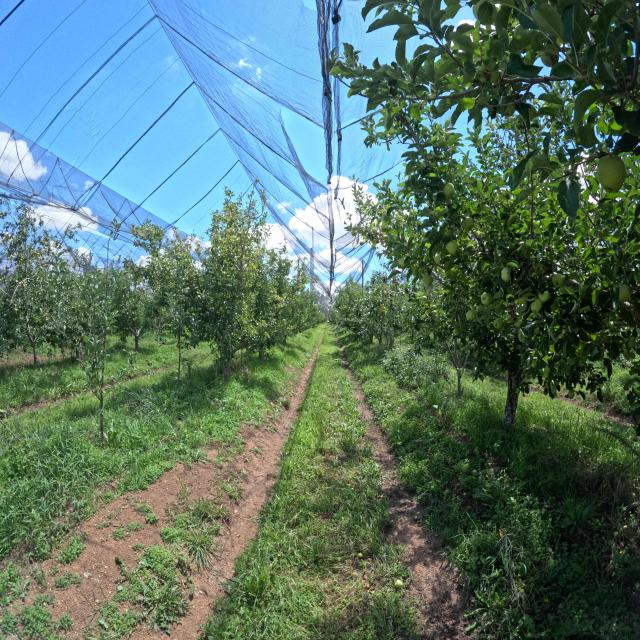-FireBlight-: (380, 233, 384, 237)
